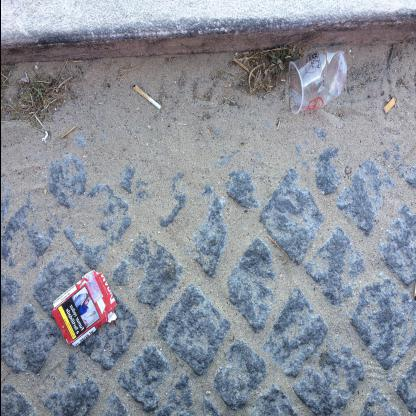karton: (51, 270, 118, 348)
kopuk: (133, 85, 162, 110)
plastik: (288, 50, 347, 116)
